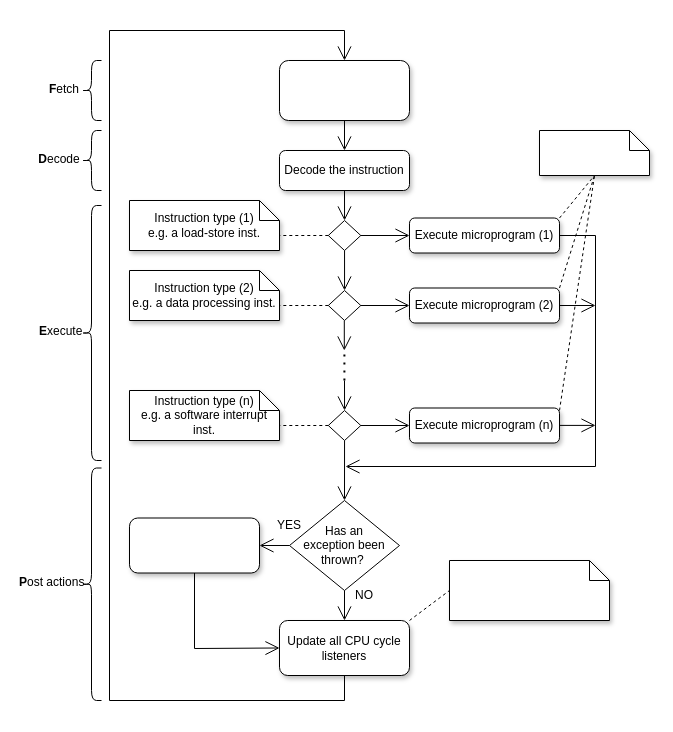
The diagram is 673 pixels wide and 732 high, and some of its shapes have lost their labels. The centre of each missing label's shape, as x and y in pixels:
e.g. the ARM timer, AUX, and all external peripherals: (x=530, y=592)
Fetch the next instruction from RAM: (x=345, y=92)
May throw an exception: (x=595, y=154)
Set the PC register to the corresponding vector address: (x=195, y=546)
